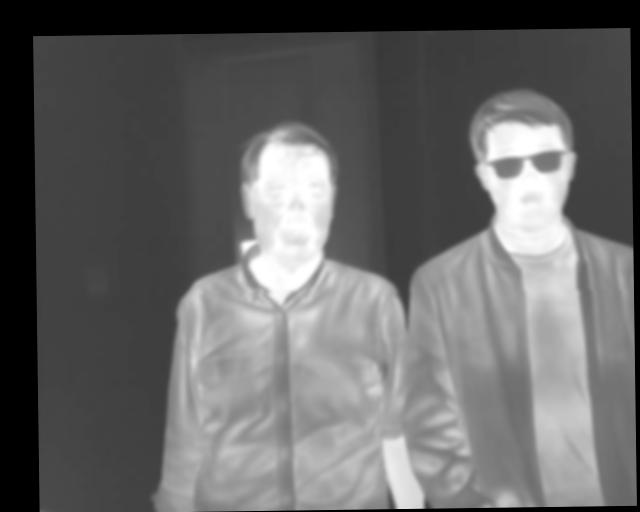face: (469, 87, 579, 235), (237, 119, 340, 267)
